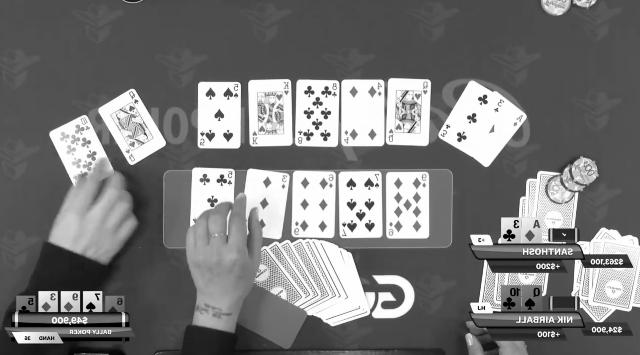10C: (502, 286, 522, 312)
3C: (500, 219, 520, 244)
3D: (37, 292, 57, 312)
5C: (16, 296, 36, 314)
6D: (104, 296, 124, 314)
7S: (82, 292, 102, 312)
9D: (60, 292, 80, 312)
AD: (522, 218, 542, 244)
QS: (522, 286, 544, 312)
